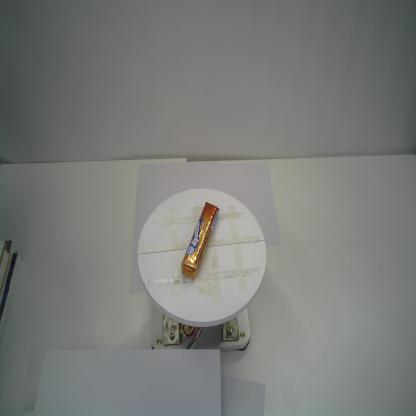Candy: (180, 200, 222, 282)
